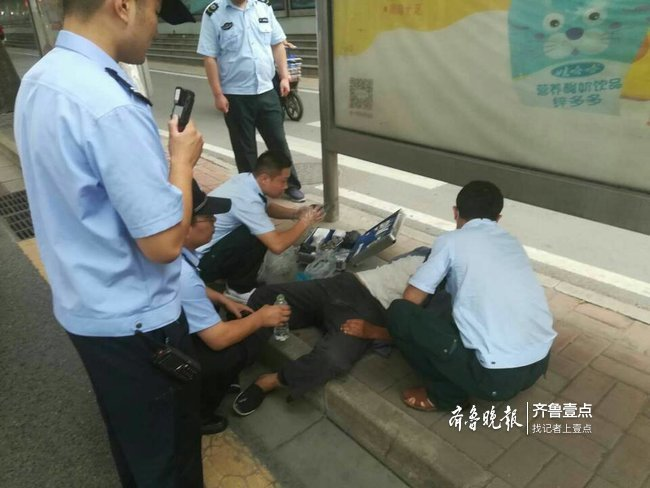fall: (224, 233, 443, 408)
